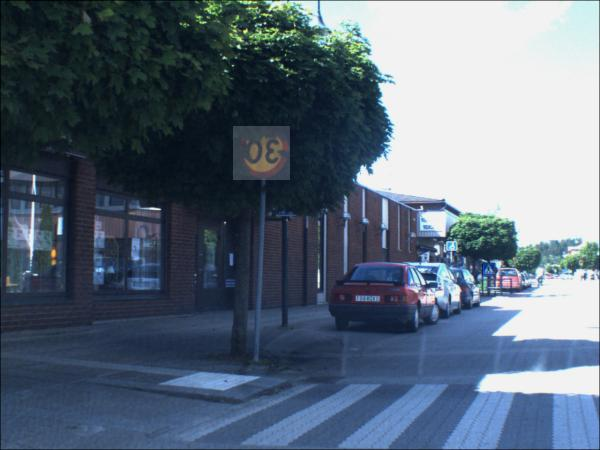30_SIGN: (233, 127, 291, 182)
PEDESTRIAN_CROSSING: (482, 265, 495, 277)
